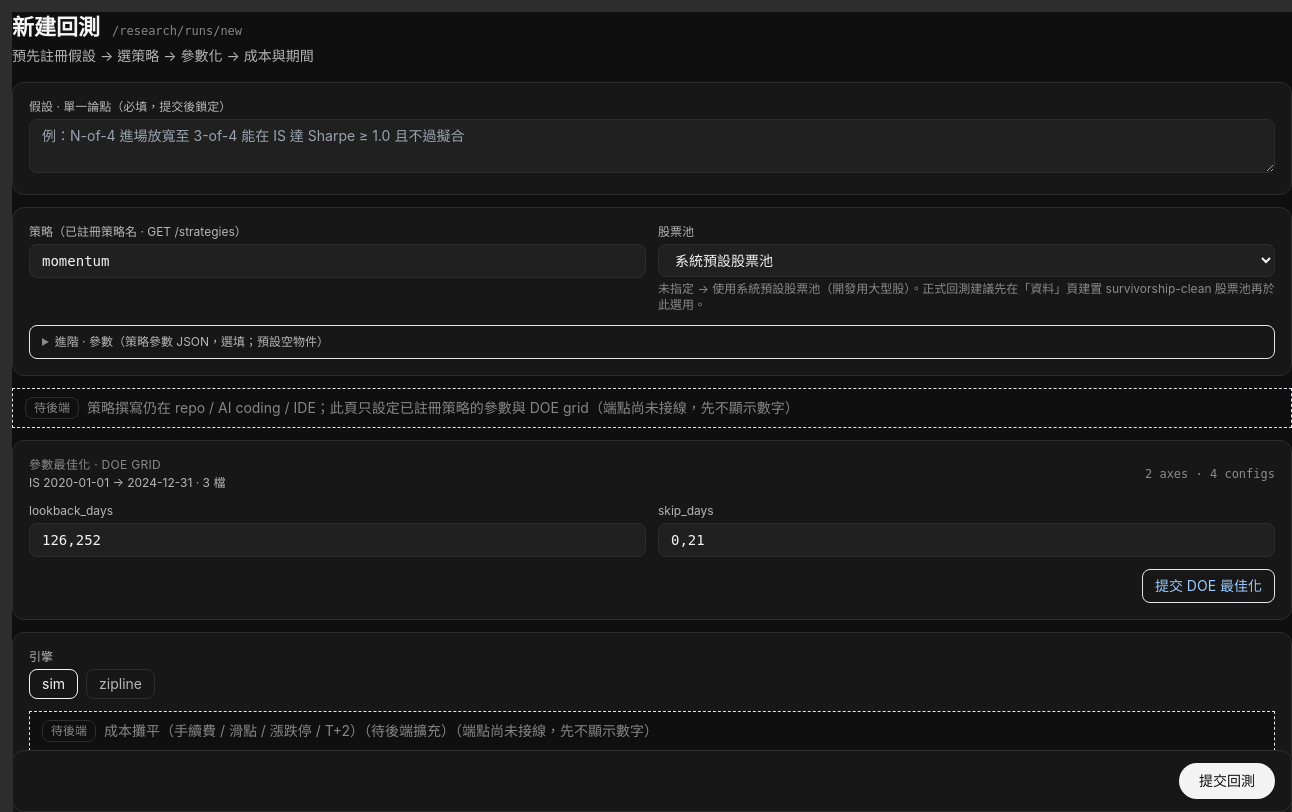
Test: NewRunPage › 讀 DOE optimization schema → 可覆寫 grid 後提交 workflow job
Expected: the text "參數最佳化 · DOE grid" is shown, [29,457,161,472]
Replace the text in the field showing "126,252" with "63,126,252" at (338, 540), box [29,523,646,557]
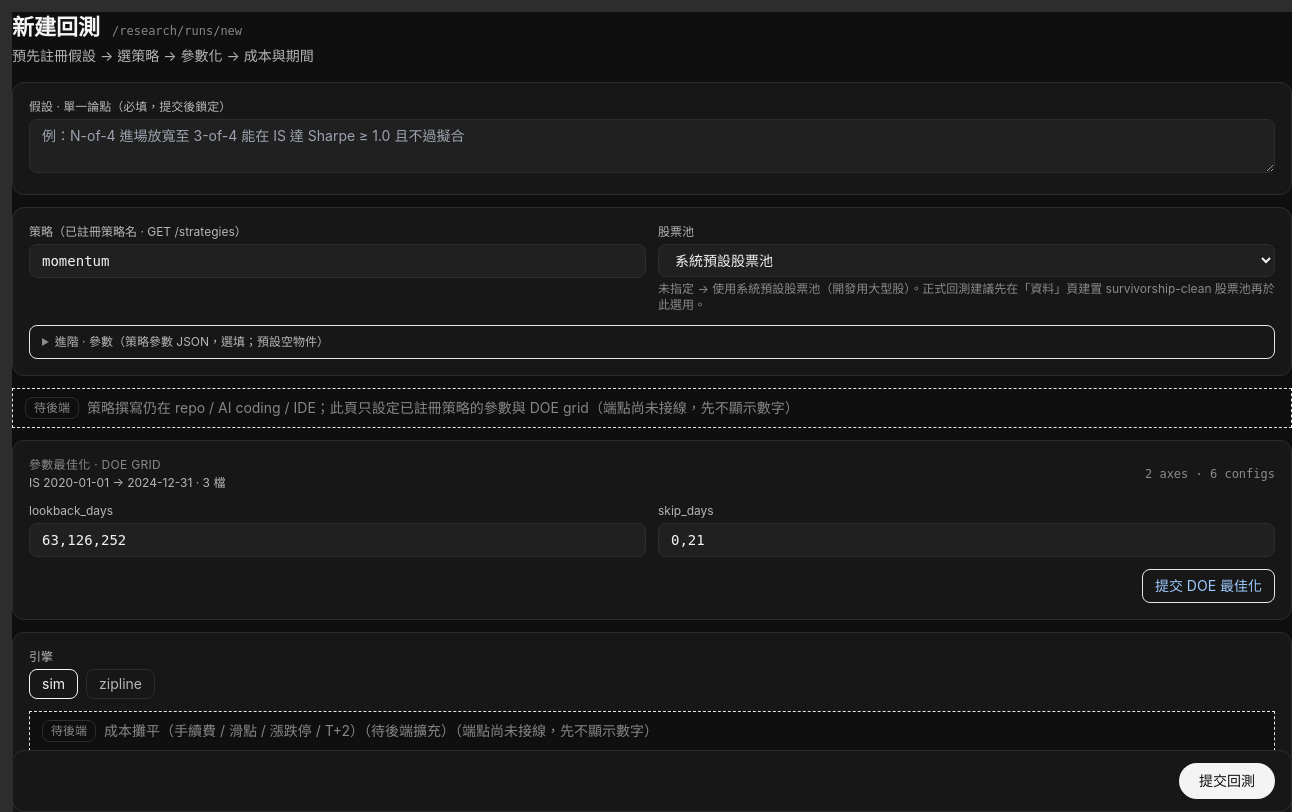
Click the button "提交 DOE 最佳化" at (1208, 586), box [1142,569,1275,603]
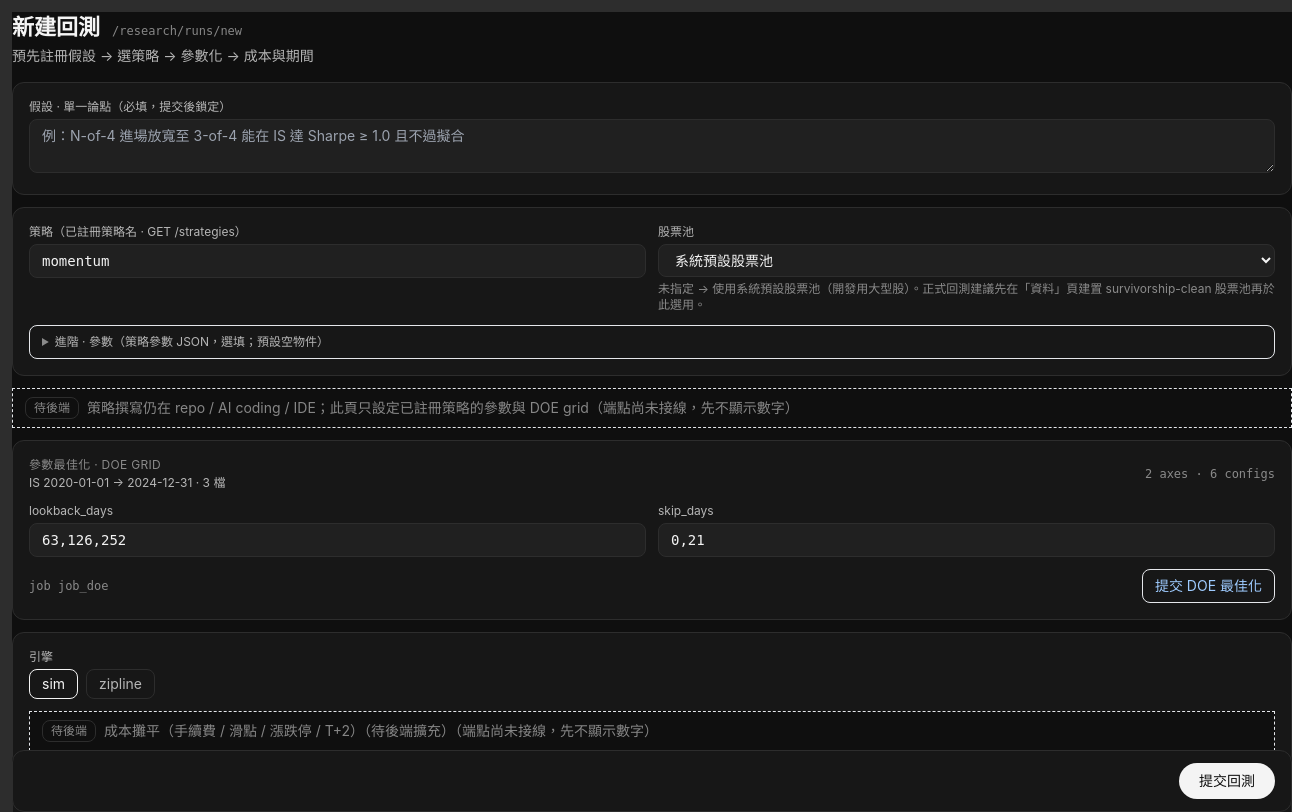
Expected: the text "job job_doe" is shown, [29,578,108,594]
